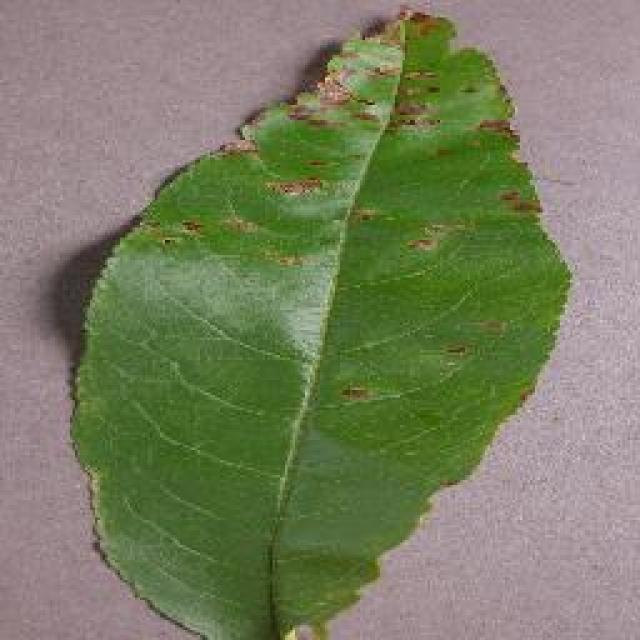Peach_Bacterial_Spot: (178, 10, 534, 293)
